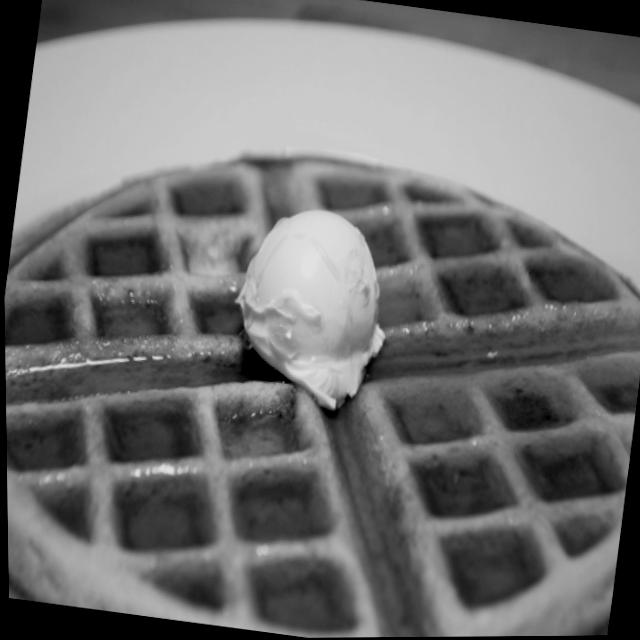炸货点心: (1, 107, 640, 640)
蛋糕甜品: (1, 107, 640, 640)
